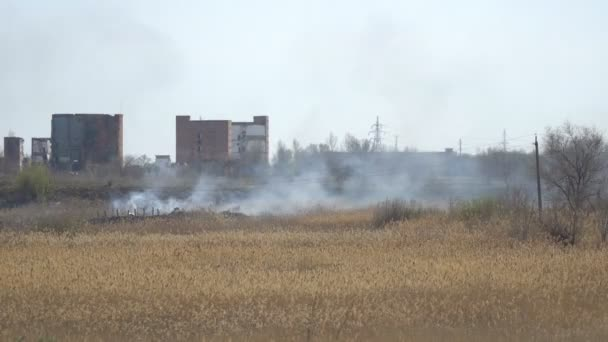smoke: (135, 155, 484, 209)
